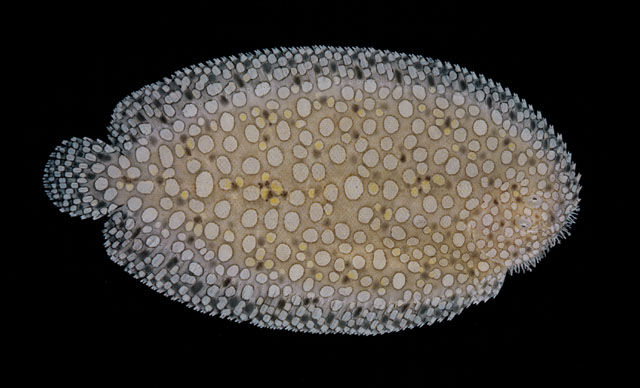fish: (41, 45, 582, 336)
